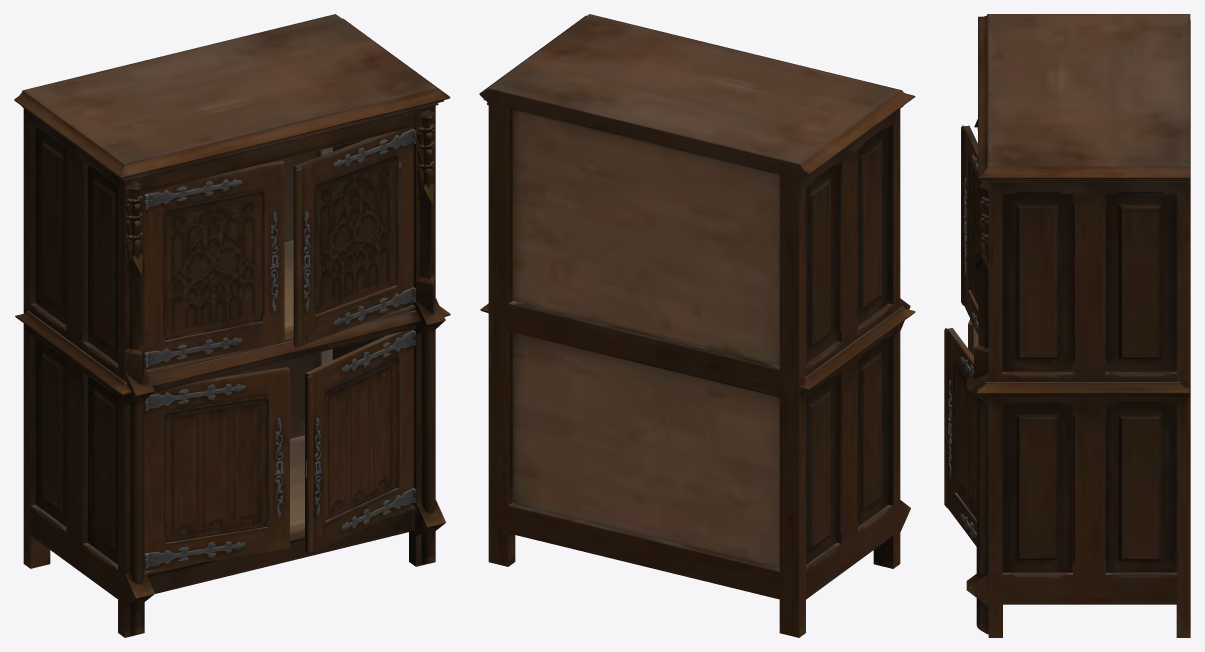
The model's file is gothiccabinet_01.glb.
3 renders of one model, left to right at view 1: azimuth 30°, elevation 25°; view 2: azimuth 150°, elevation 25°; view 3: azimuth 270°, elevation 25°, orthographic.
Parts seen in each view (by area): view 1: GothicCabinet_01_cabinet, GothicCabinet_01_door3, GothicCabinet_01_door1, GothicCabinet_01_door2, GothicCabinet_01_door4; view 2: GothicCabinet_01_cabinet; view 3: GothicCabinet_01_cabinet, GothicCabinet_01_door4, GothicCabinet_01_door2.
Part boxes in pixels (x1,y1,x2,y2): GothicCabinet_01_cabinet: (14,14,450,637); GothicCabinet_01_door3: (144,367,289,571); GothicCabinet_01_door1: (144,160,284,369); GothicCabinet_01_door2: (293,127,415,347); GothicCabinet_01_door4: (305,329,415,554); GothicCabinet_01_cabinet: (479,14,915,637); GothicCabinet_01_cabinet: (966,14,1190,637); GothicCabinet_01_door4: (944,328,976,546); GothicCabinet_01_door2: (961,125,986,335).
Size of the model in its own units: 1.72 by 2.36 by 1.12.
1 material, 1 textured.
